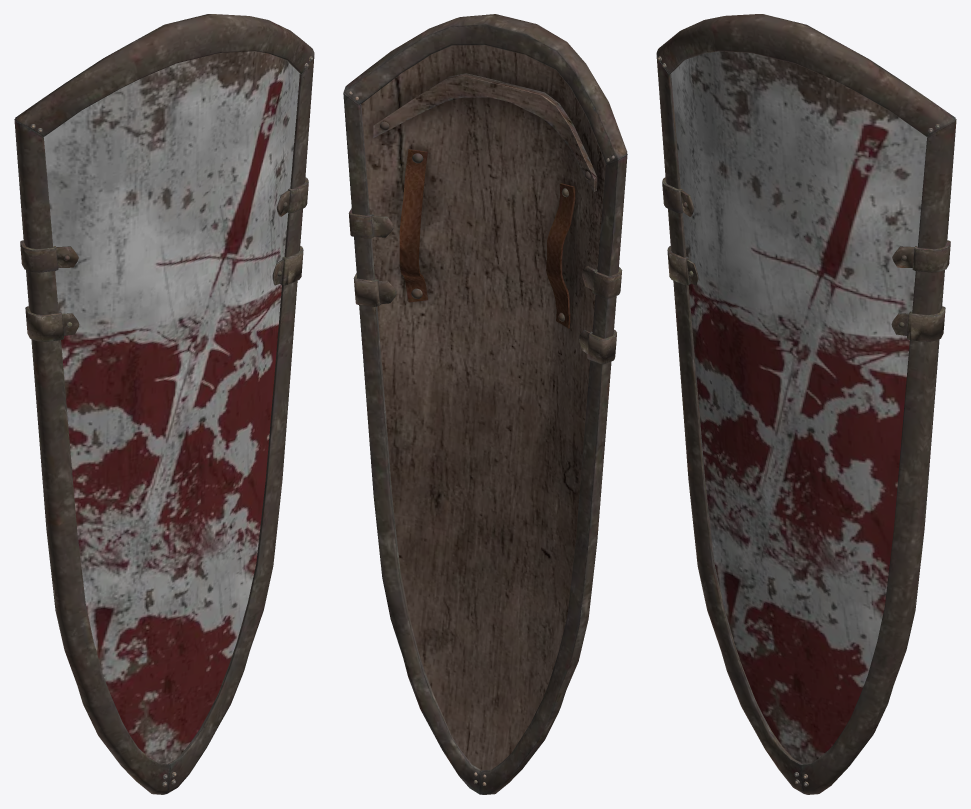
Rendered from shield.glb.
3 views of the same model, side by side, from view 1: azimuth 30°, elevation 25°; view 2: azimuth 150°, elevation 25°; view 3: azimuth 330°, elevation 25° (orthographic). The views are drawn at different scales.
Visible parts, largest first — view 1: kite_shield_body, kite_shield_metal_trim; view 2: kite_shield_body, kite_shield_metal_trim; view 3: kite_shield_body, kite_shield_metal_trim.
Boxes of the visible parts, x1=… form: kite_shield_body: x1=43, y1=51, x2=299, y2=764; kite_shield_metal_trim: x1=14, y1=14, x2=314, y2=794; kite_shield_body: x1=361, y1=45, x2=606, y2=770; kite_shield_metal_trim: x1=343, y1=14, x2=627, y2=794; kite_shield_body: x1=671, y1=51, x2=927, y2=763; kite_shield_metal_trim: x1=656, y1=14, x2=956, y2=794.
Bounding box in the file's own units: 0.5433 × 1.39 × 0.1347.
2 materials, 2 textured.
